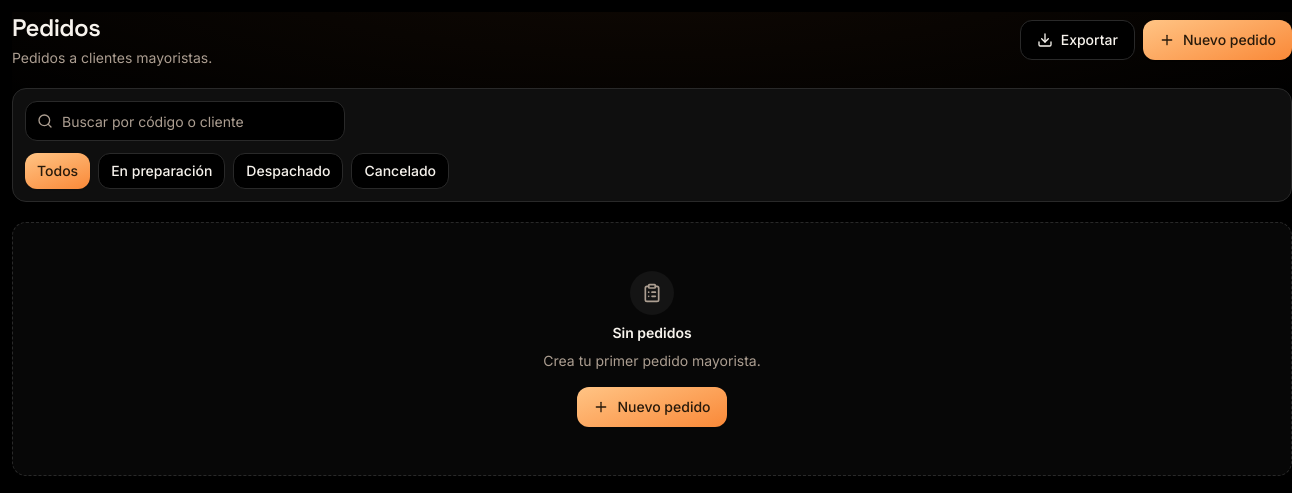
Pedidos · estado vacío con acción › si el vacío es por una búsqueda, no ofrece 'crear' en el estado vacío (sería engañoso): solo queda el de arriba
In the field with placeholder "Buscar por código o cliente": (185, 121) [25,101,345,141], type "nadie existe"
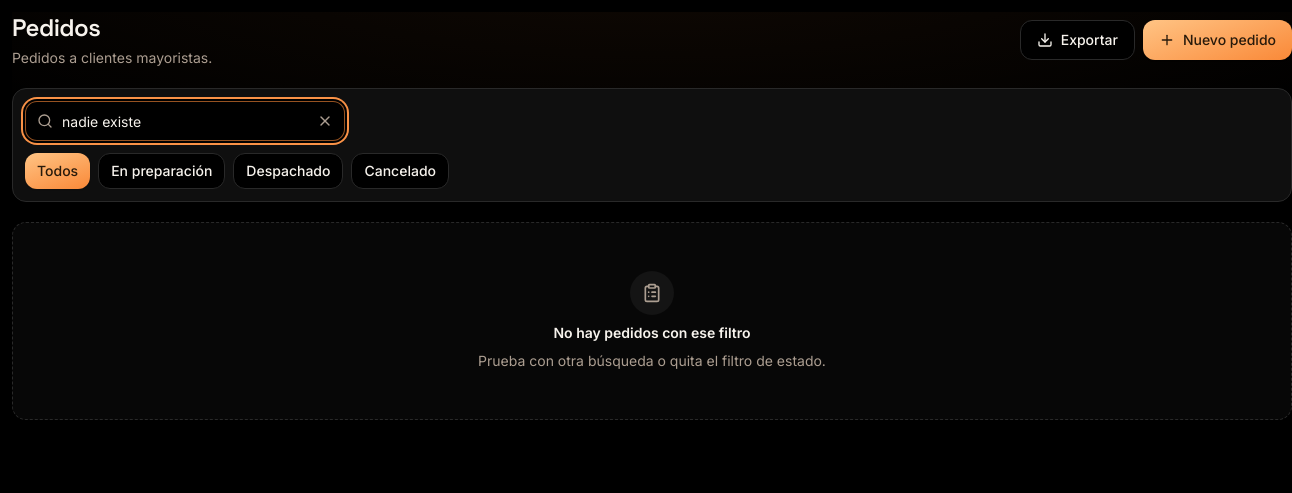
Check: the number of links "Nuevo pedido" is 1, box [1143,20,1291,60]
Check: the text "No hay pedidos con ese filtro" is shown, box [554,323,750,343]
